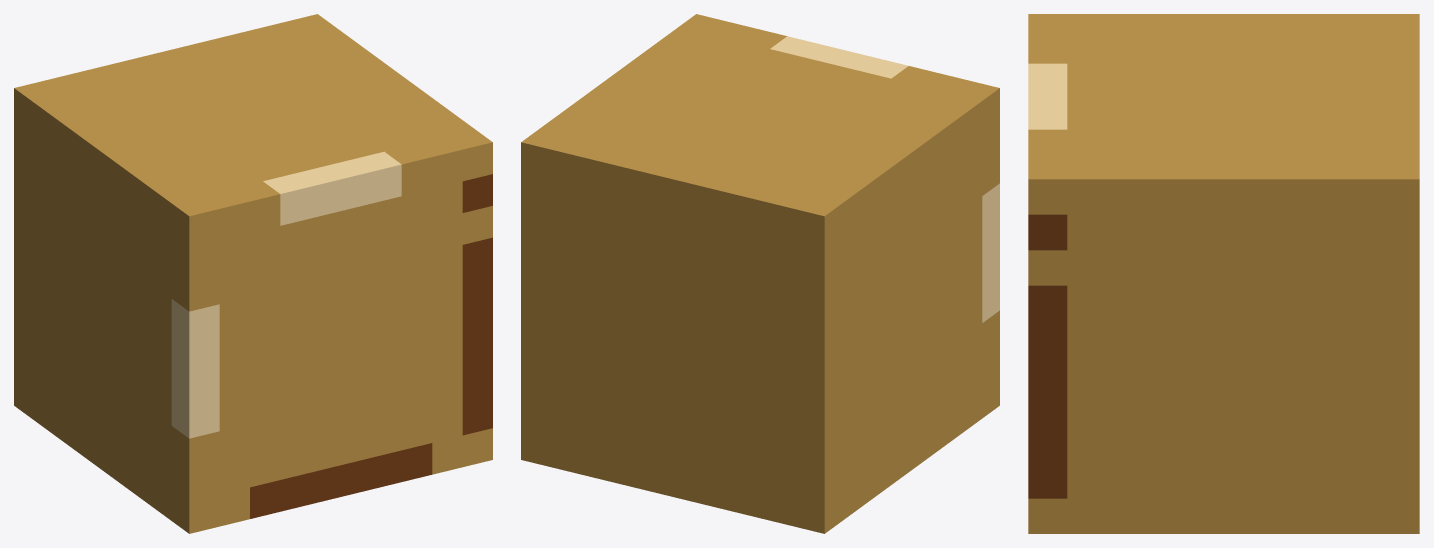
The model's file is tile7.obj.
3 views of the same model, side by side, from view 1: azimuth 30°, elevation 25°; view 2: azimuth 150°, elevation 25°; view 3: azimuth 270°, elevation 25° (orthographic). The views are drawn at different scales.
Bounding box in the file's own units: 1 × 1 × 1.
Materials: 1 (1 with a texture image).
